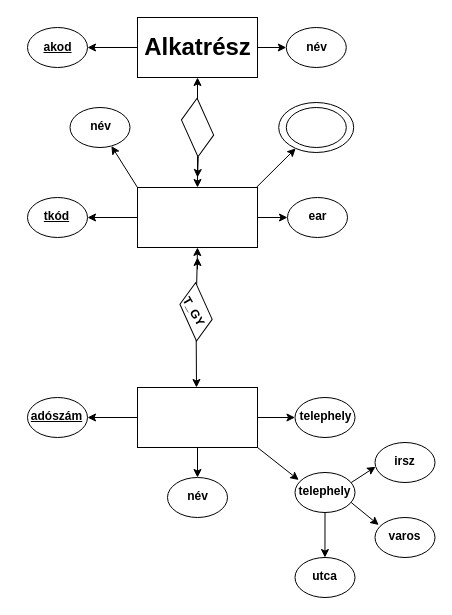
This 452x615 diagram has some shape labels left out. Here are the shapes that lost their labels. From the top down, the centre of each, then its label:
At point 197,127: "A_T".
At point 315,127: "csedb".
At point 197,217: "Termék".
At point 197,417: "Gyártó".
